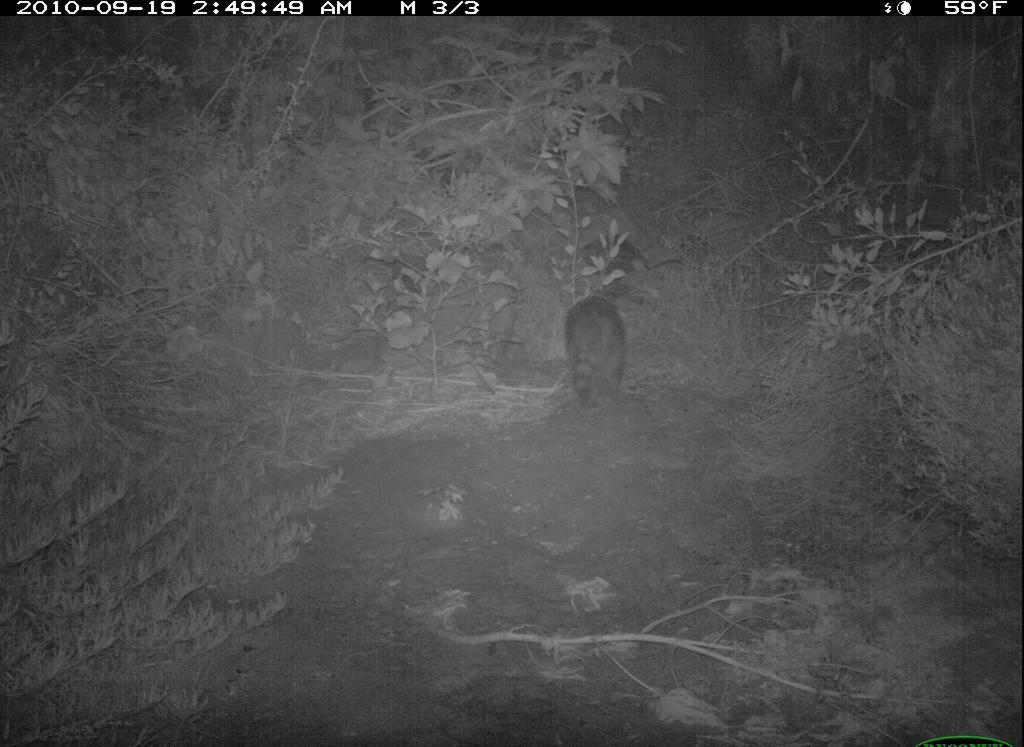raccoon: (553, 290, 641, 417)
